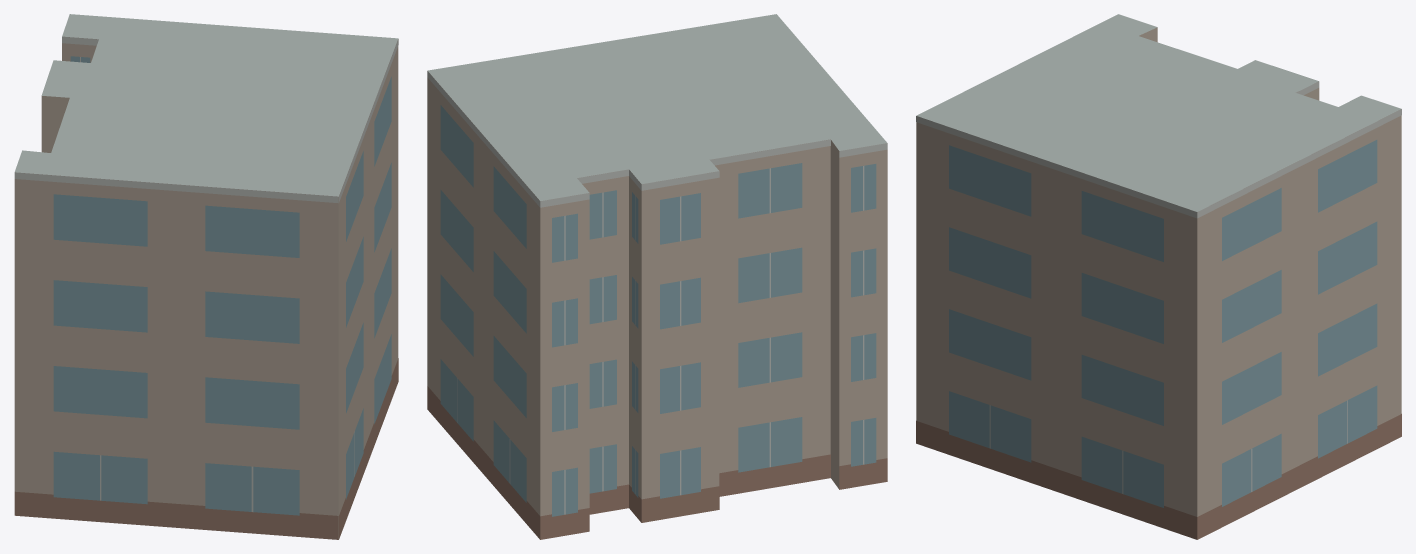
File: survey-upis-32975932.glb
The picture shows the model from 3 angles, left to right: view 1: azimuth 30°, elevation 25°; view 2: azimuth 150°, elevation 25°; view 3: azimuth 270°, elevation 25°; orthographic projection. The views are drawn at different scales.
Visible parts, largest first — view 1: survey-upis-32975932.tmp; view 2: survey-upis-32975932.tmp; view 3: survey-upis-32975932.tmp.
Boxes of the visible parts, box(x1,y1,x2,y2) form: survey-upis-32975932.tmp: box(14, 14, 398, 539); survey-upis-32975932.tmp: box(427, 14, 887, 539); survey-upis-32975932.tmp: box(916, 14, 1401, 539).
Size of the model in its own units: 16.34 by 12.6 by 16.93.
